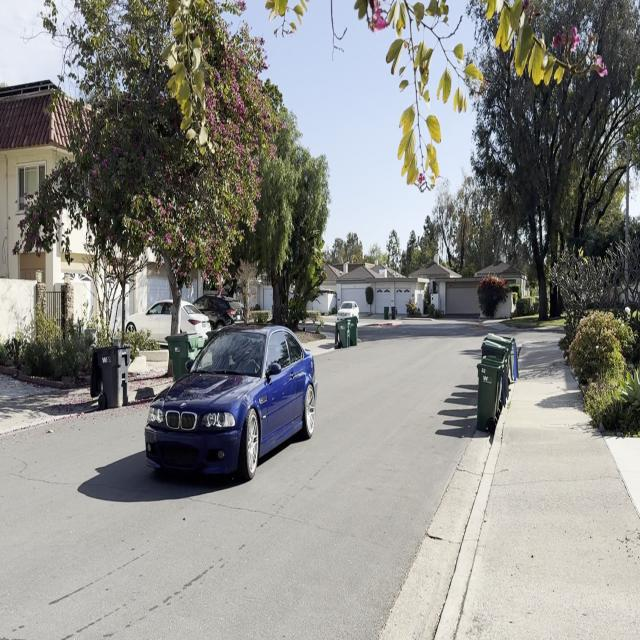Carbeetle: (142, 311, 320, 492)
